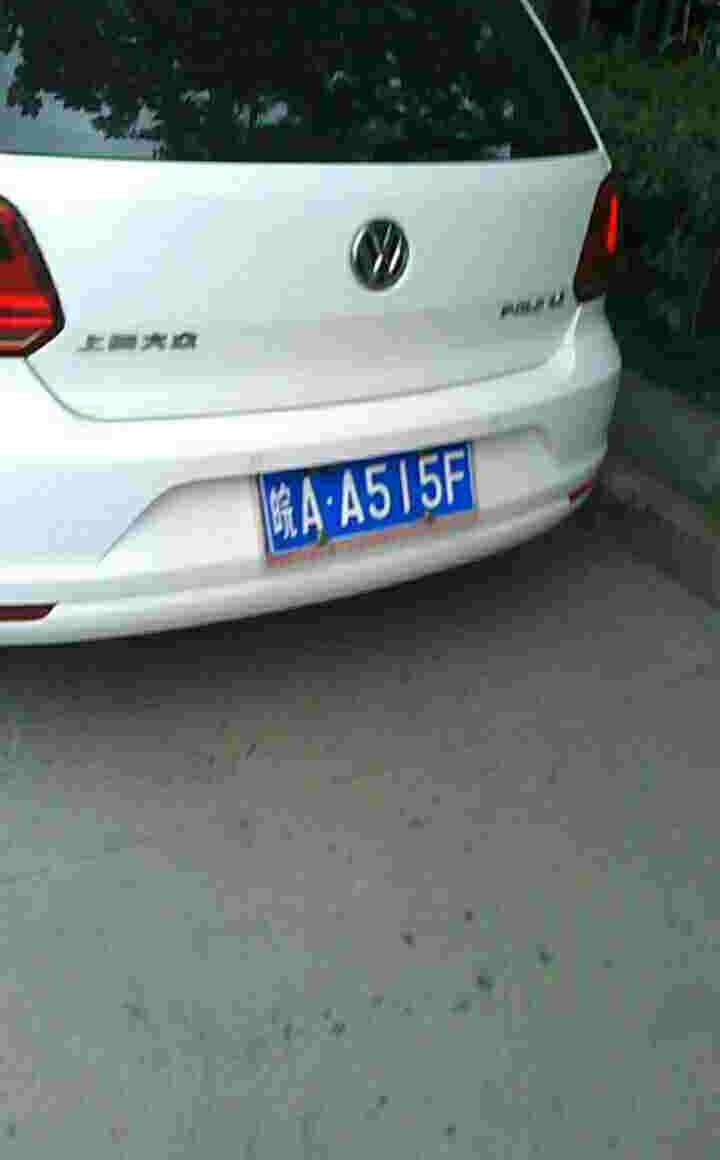license_plate: (261, 441, 483, 558)
